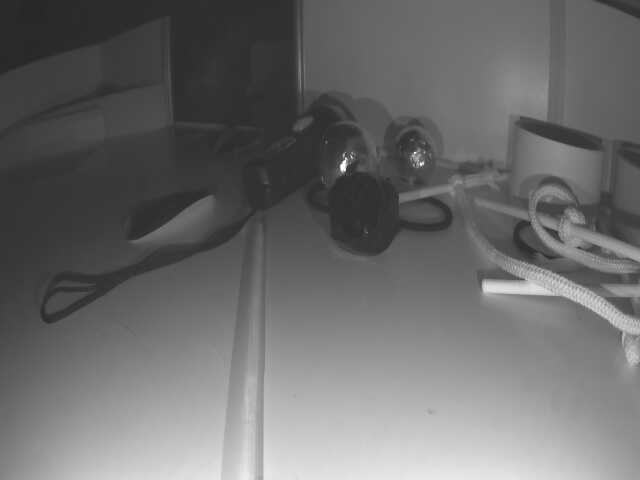Dead: (333, 179, 395, 253)
Live: (320, 122, 377, 187), (395, 127, 436, 184)
Point: (0, 82, 164, 158)
